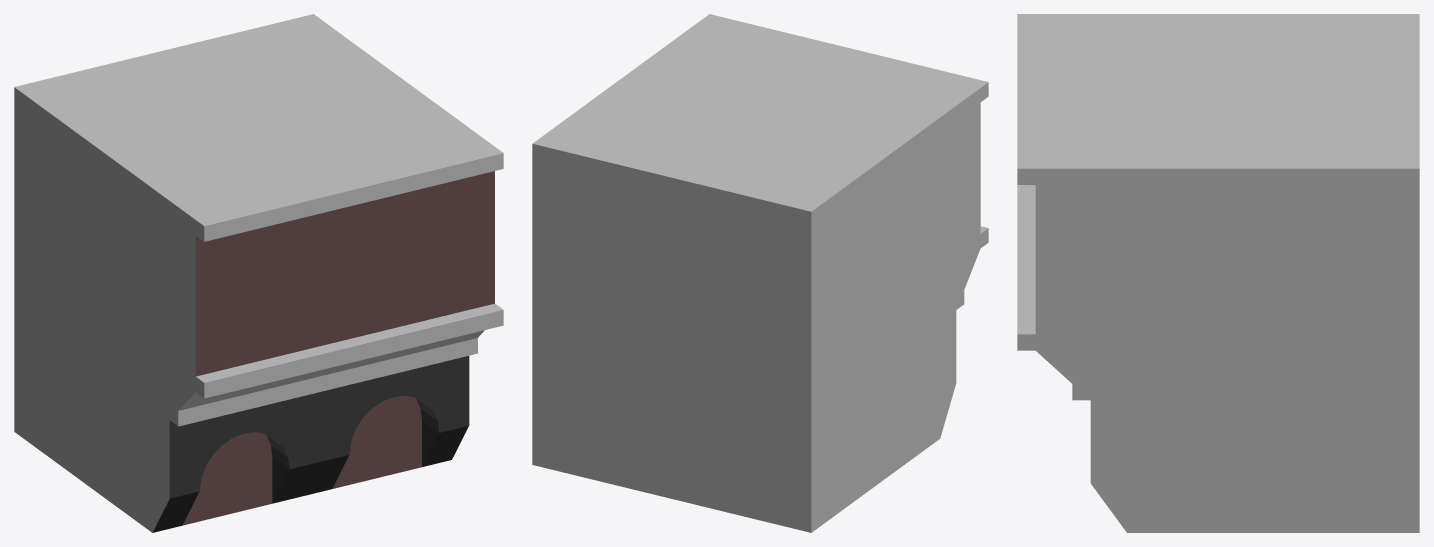
The model's file is RoofPillar1.fbx.
3 views of the same model, side by side, from view 1: azimuth 30°, elevation 25°; view 2: azimuth 150°, elevation 25°; view 3: azimuth 270°, elevation 25° (orthographic). The views are drawn at different scales.
Parts seen in each view (by area): view 1: Tile28; view 2: Tile28; view 3: Tile28.
Boxes of the visible parts, <box> form: Tile28: <box>14,14,503,532</box>; Tile28: <box>532,14,988,532</box>; Tile28: <box>1017,14,1419,532</box>.
Bounding box in the file's own units: 1 × 1.1 × 1.1.
